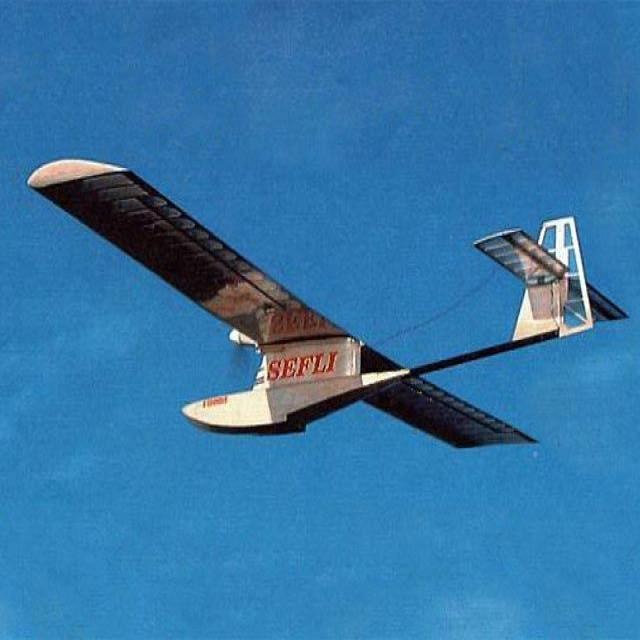iha: (18, 154, 623, 452)
